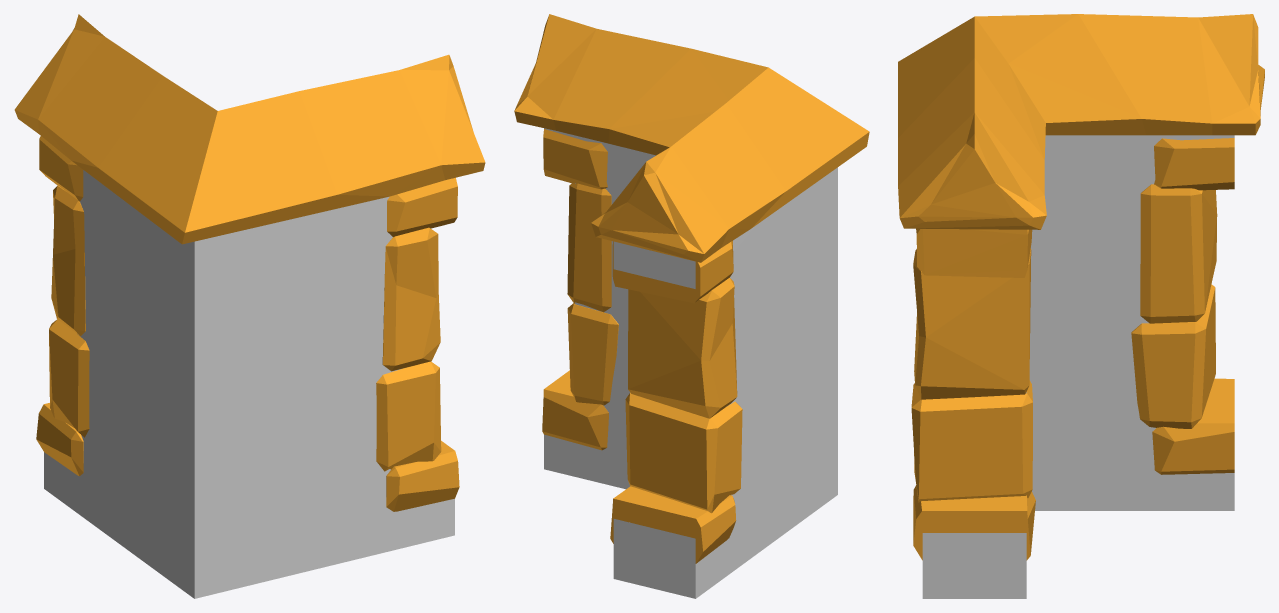
File: SM_Crenelations_Corner_Big_A_Fantasy.fbx
3 renders of one model, left to right at view 1: azimuth 30°, elevation 25°; view 2: azimuth 150°, elevation 25°; view 3: azimuth 270°, elevation 25°, orthographic. The views are drawn at different scales.
Parts seen in each view (by area): view 1: SM_Crenelations_Corner_Big_A_Fantasy; view 2: SM_Crenelations_Corner_Big_A_Fantasy; view 3: SM_Crenelations_Corner_Big_A_Fantasy.
Part boxes in pixels (x1,y1,x2,y2): SM_Crenelations_Corner_Big_A_Fantasy: (14,14,485,598); SM_Crenelations_Corner_Big_A_Fantasy: (514,14,869,598); SM_Crenelations_Corner_Big_A_Fantasy: (898,14,1264,598).
Bounding box in the file's own units: 1.42 × 2.02 × 1.41.
